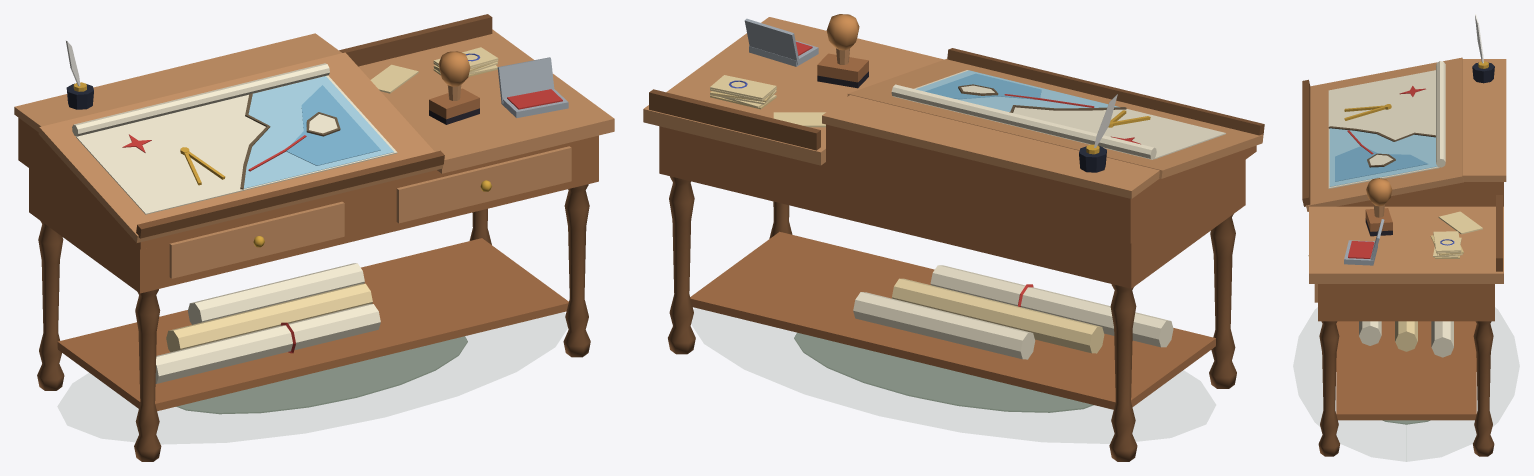
File: chart_table.glb
3 views of the same model, side by side, from view 1: azimuth 30°, elevation 25°; view 2: azimuth 150°, elevation 25°; view 3: azimuth 270°, elevation 25° (orthographic). The views are drawn at different scales.
Visible parts, largest first — view 1: chart_table; view 2: chart_table; view 3: chart_table.
Part boxes in pixels (box(x1,y1,x2,y2)): chart_table: box(14, 14, 614, 461); chart_table: box(643, 14, 1264, 461); chart_table: box(1302, 14, 1506, 461).
Bounding box in the file's own units: 2 × 1.34 × 1.
